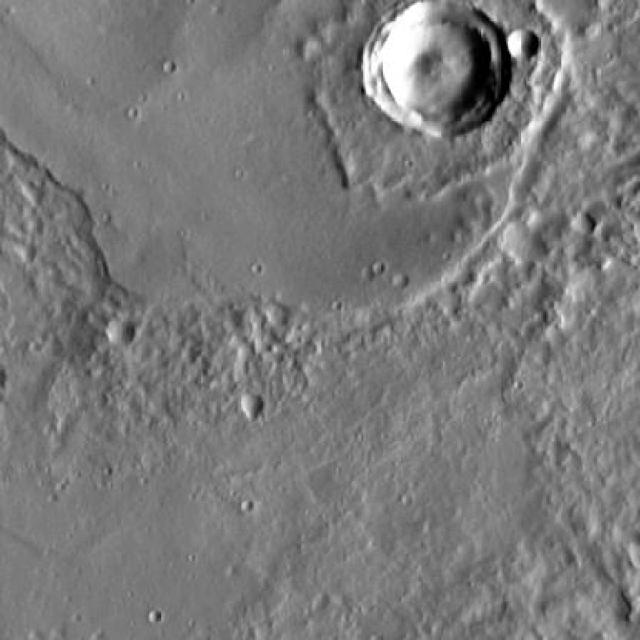crater: (363, 0, 512, 138), (506, 30, 539, 61), (97, 320, 126, 348), (239, 393, 263, 416), (398, 267, 414, 282)
